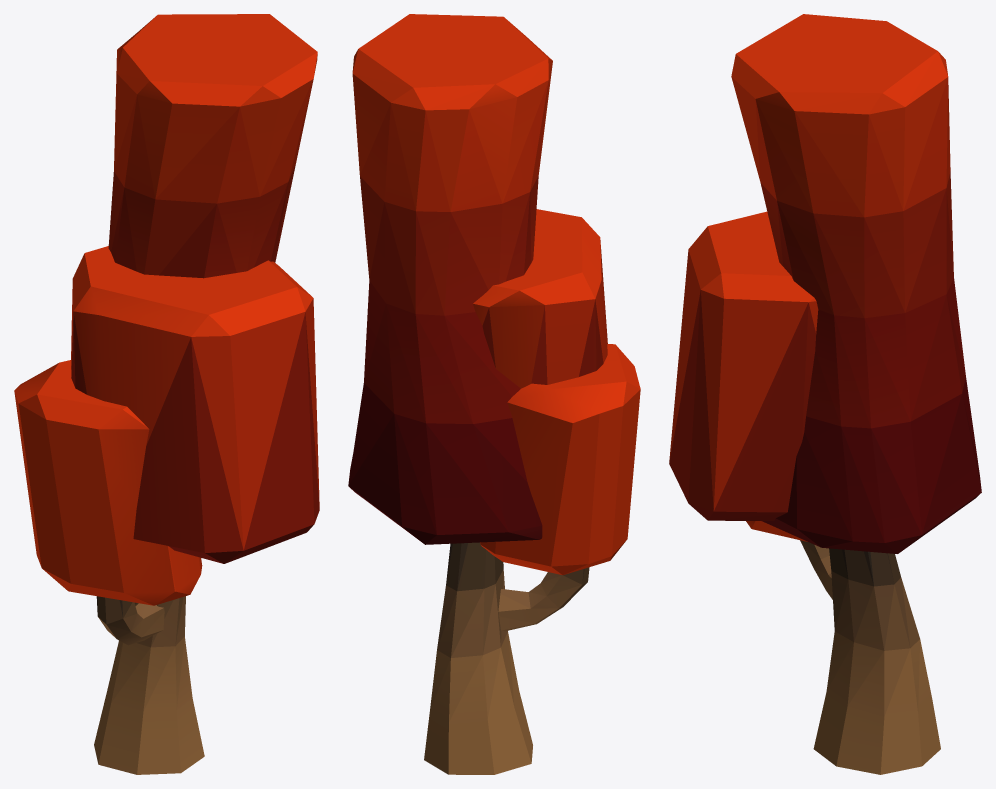
The model's file is angular_tree_stack__summer.glb.
3 renders of one model, left to right at view 1: azimuth 30°, elevation 25°; view 2: azimuth 150°, elevation 25°; view 3: azimuth 270°, elevation 25°, orthographic. The views are drawn at different scales.
Bounding box in the file's own units: 2.04 × 5 × 1.98.
